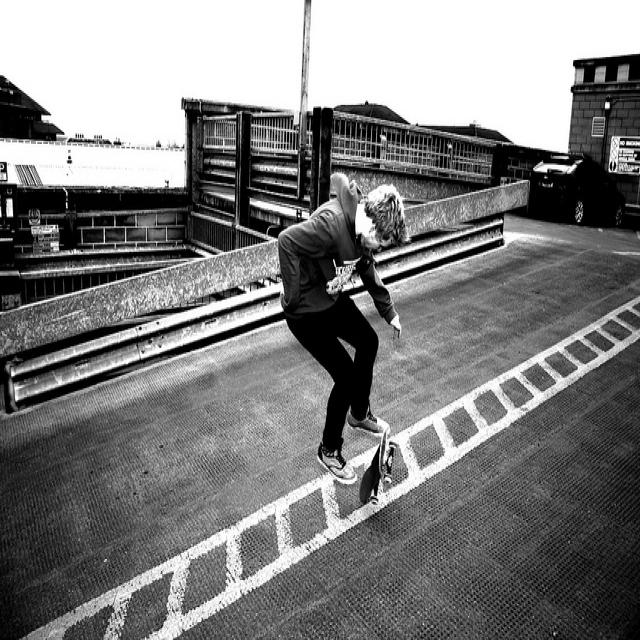Vehicle: (527, 152, 627, 228)
